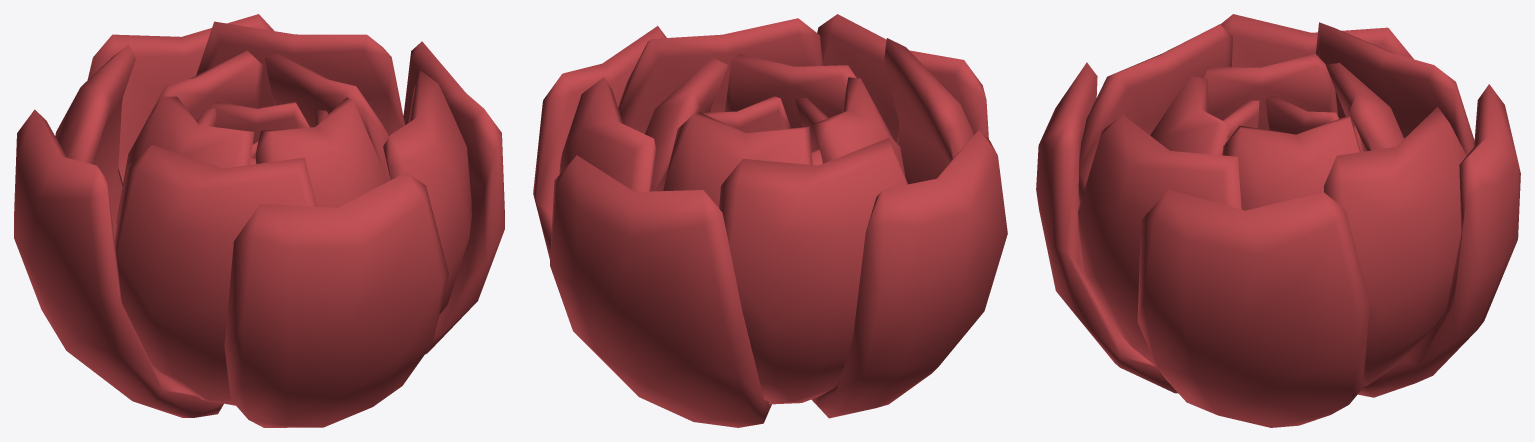
Rendered from rose.fbx.
The picture shows the model from 3 angles, left to right: view 1: azimuth 30°, elevation 25°; view 2: azimuth 150°, elevation 25°; view 3: azimuth 270°, elevation 25°; orthographic projection.
Visible parts, largest first — view 1: Red_rose; view 2: Red_rose; view 3: Red_rose.
Part boxes in pixels (left/top/right/bottom): Red_rose: left=14, top=14, right=504, bottom=427; Red_rose: left=533, top=14, right=1007, bottom=427; Red_rose: left=1036, top=14, right=1520, bottom=427.
Bounding box in the file's own units: 20.86 × 14.19 × 20.86.
